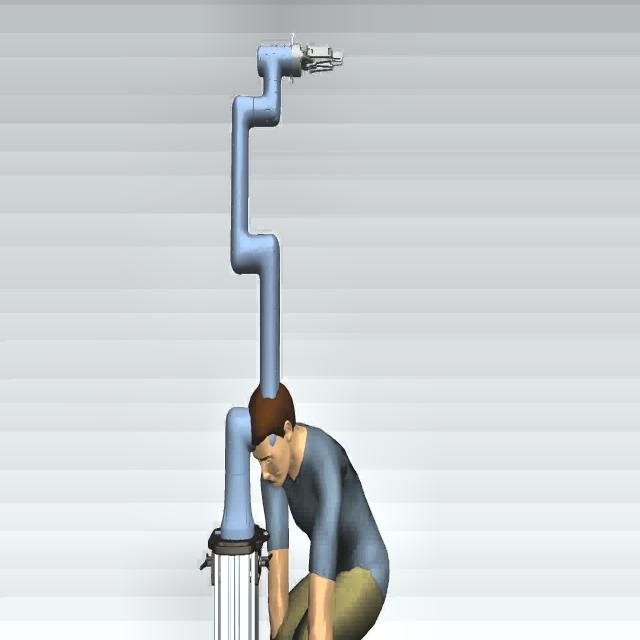robot: (200, 34, 346, 562)
